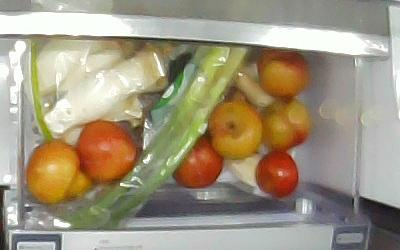prune: (74, 118, 137, 182), (25, 138, 81, 204), (206, 99, 262, 159), (256, 95, 311, 151), (170, 134, 223, 188), (256, 47, 309, 97), (254, 149, 299, 197)
